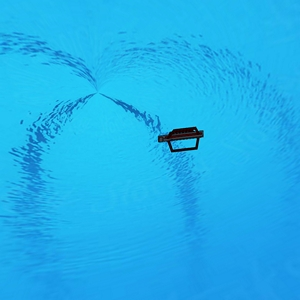submarine: (156, 123, 205, 157)
